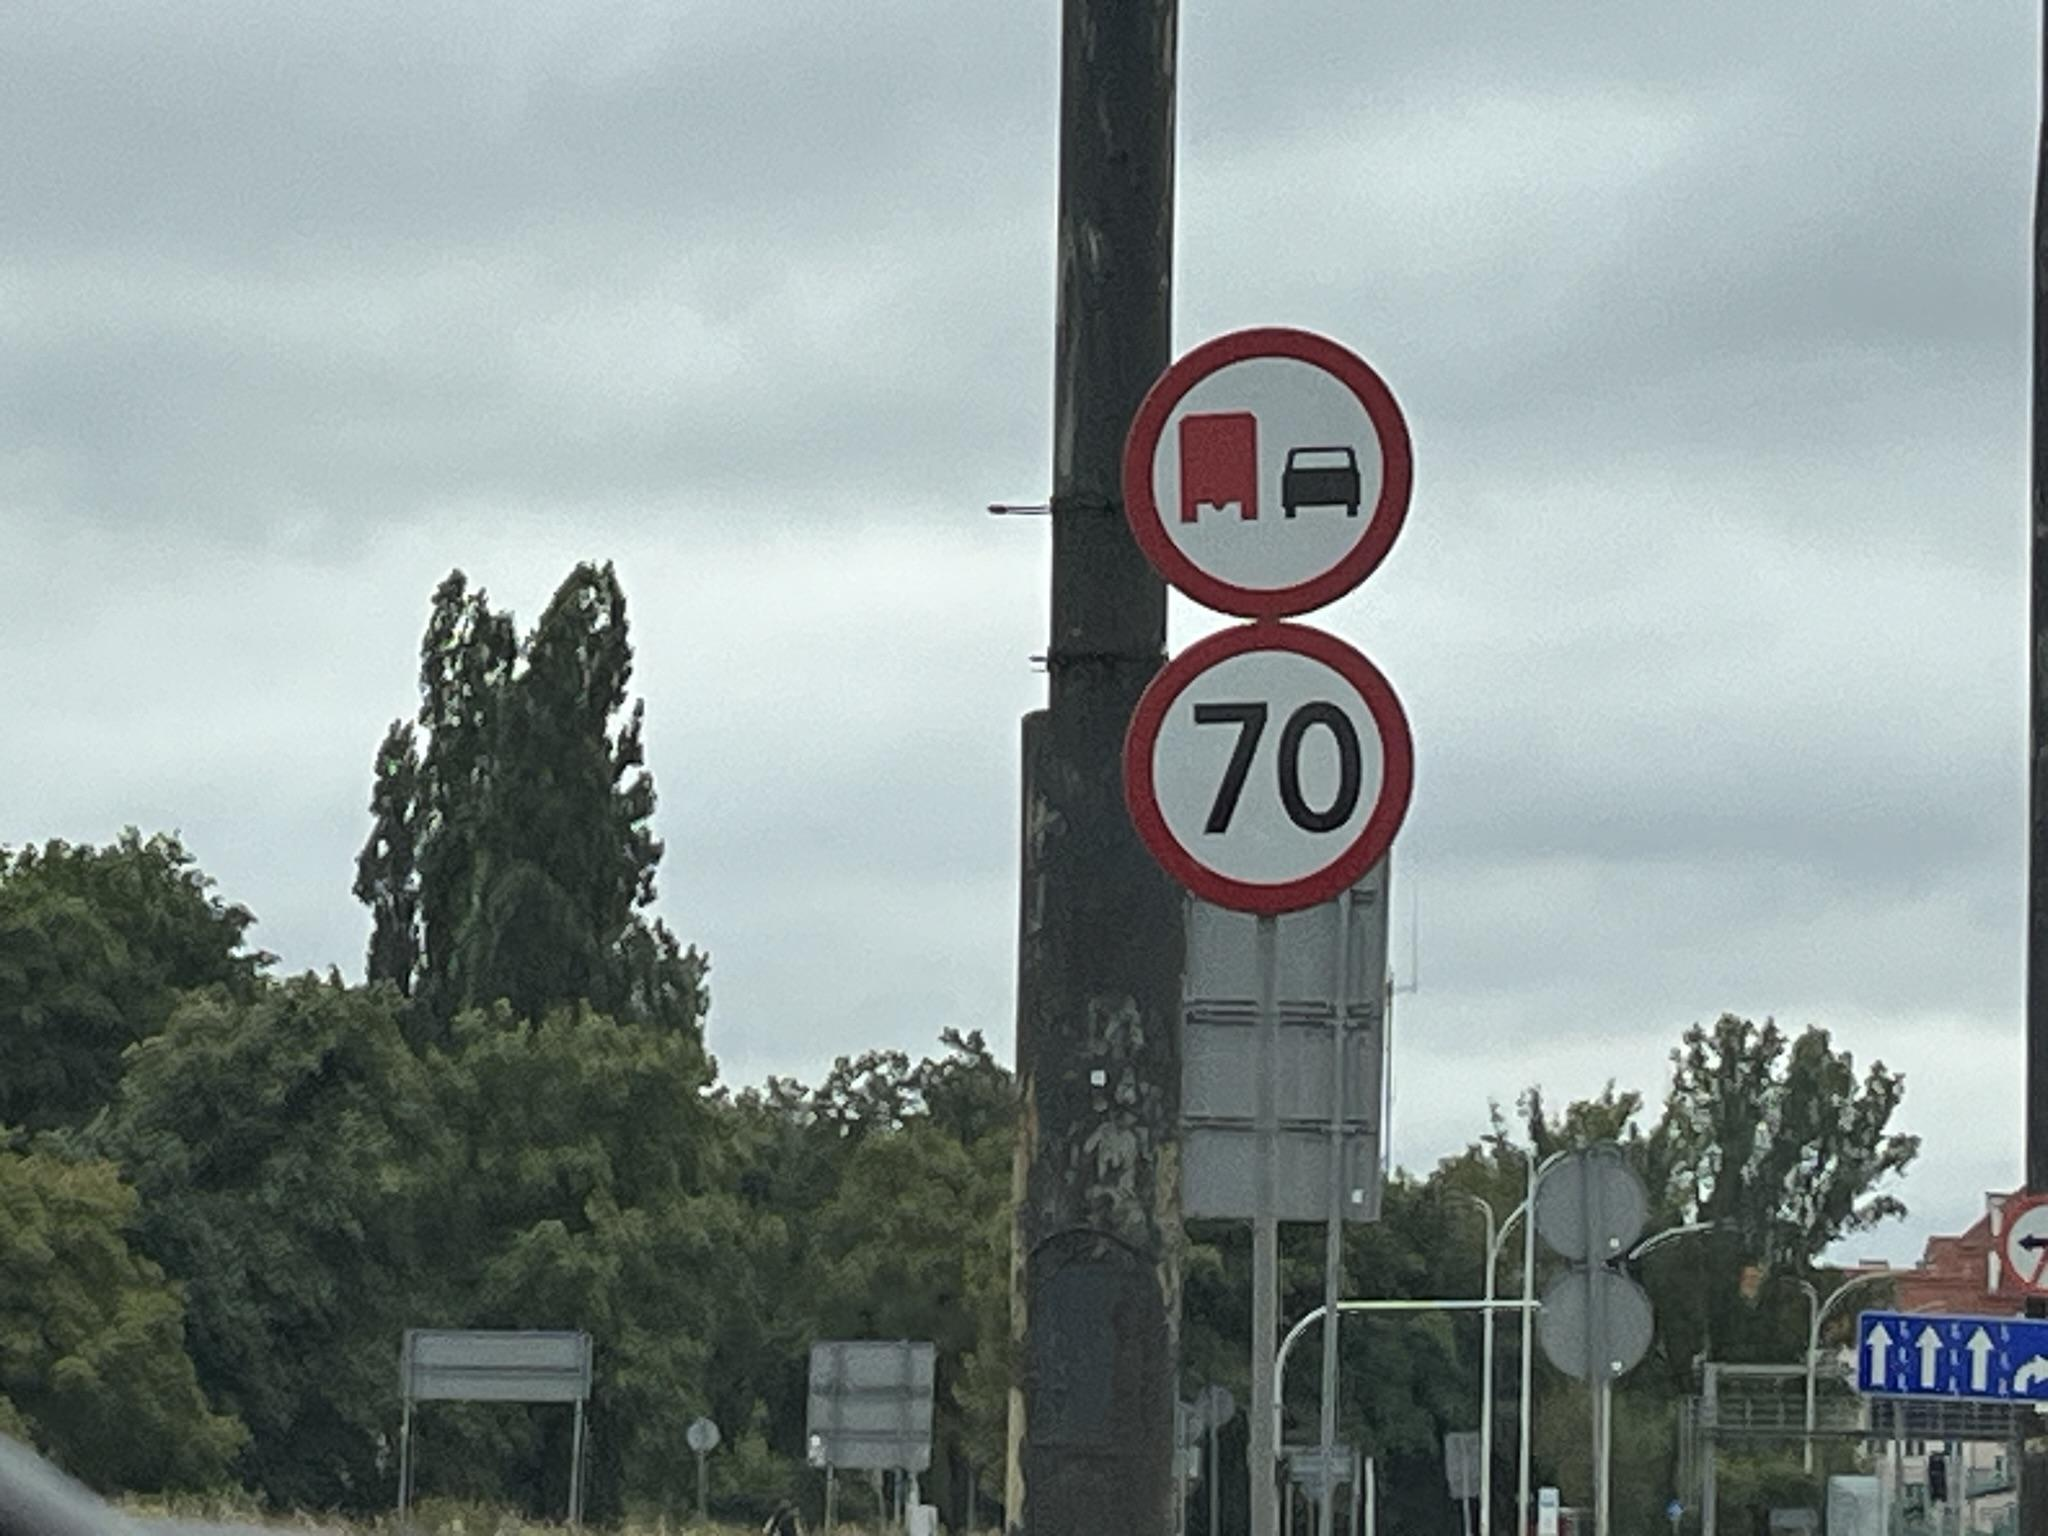other: (1851, 1310, 2048, 1409)
prohibitory: (1114, 618, 1417, 918), (1114, 324, 1417, 620), (1998, 1192, 2048, 1302)
